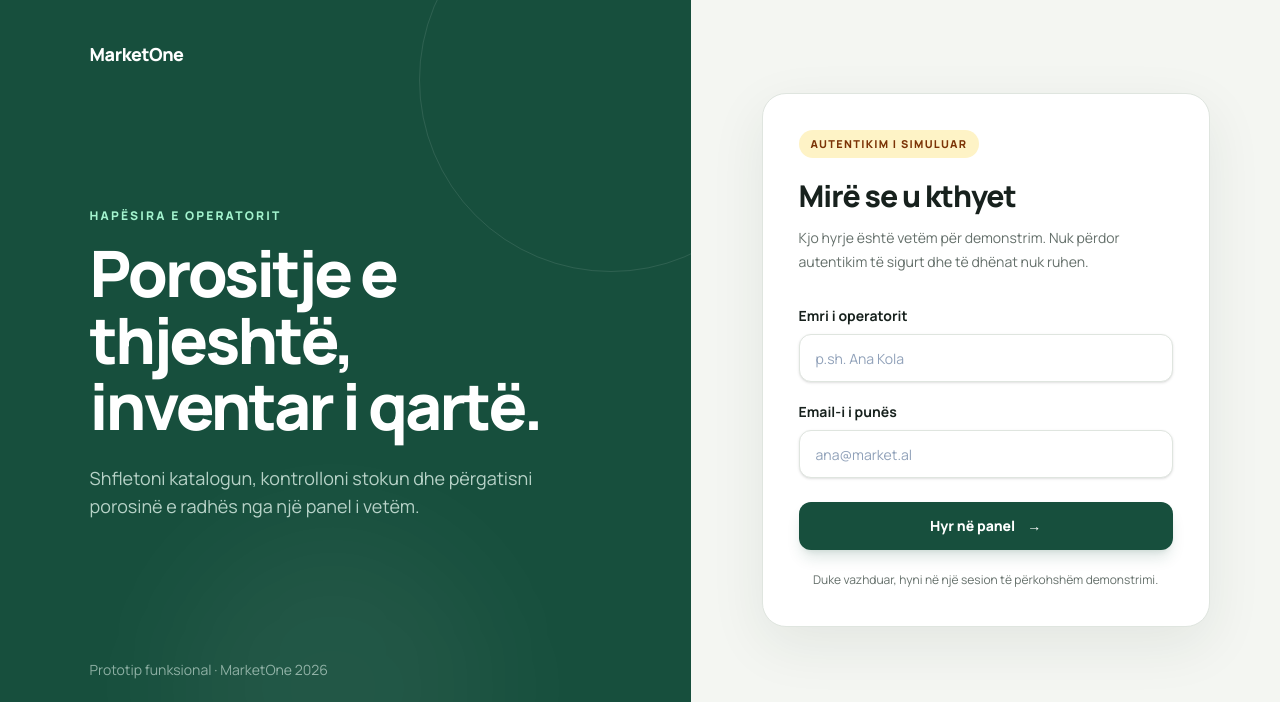
Test case: Operator flow › shows the distinct empty-catalog state
The image size is (1280, 702).
Step 1. Type "Ana Kola" into the field labelled "Emri i operatorit" → point(986, 358), box [799, 334, 1173, 382]
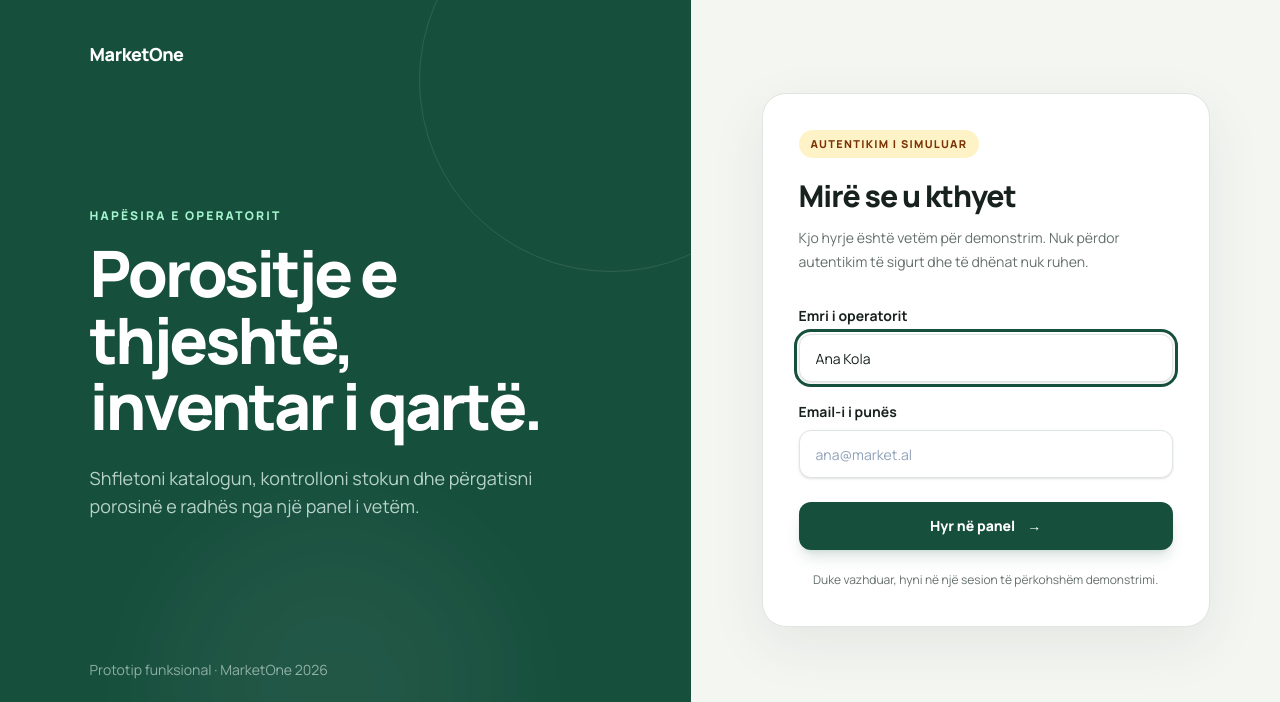
Step 2. Type "ana@example.com" into the field labelled "Email-i i punës" → point(986, 454), box [799, 430, 1173, 478]
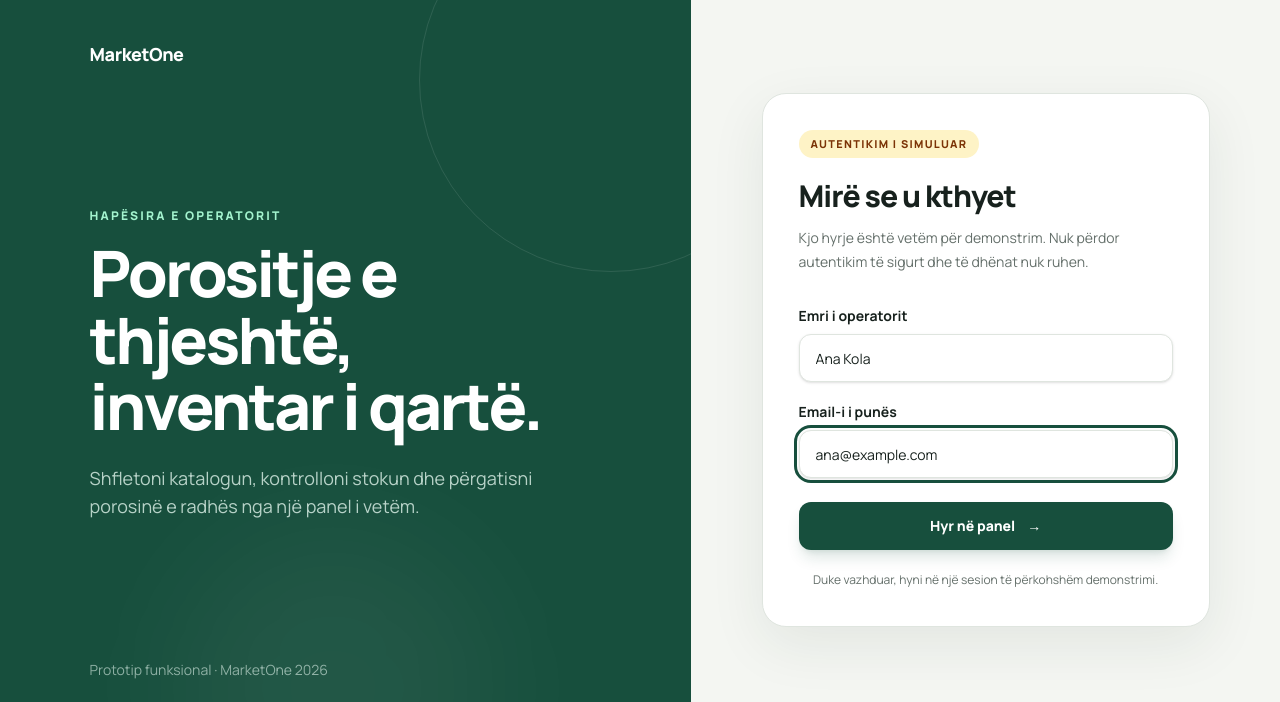
Step 3. Click the button "Hyr në panel →" → point(986, 526), box [799, 502, 1173, 550]
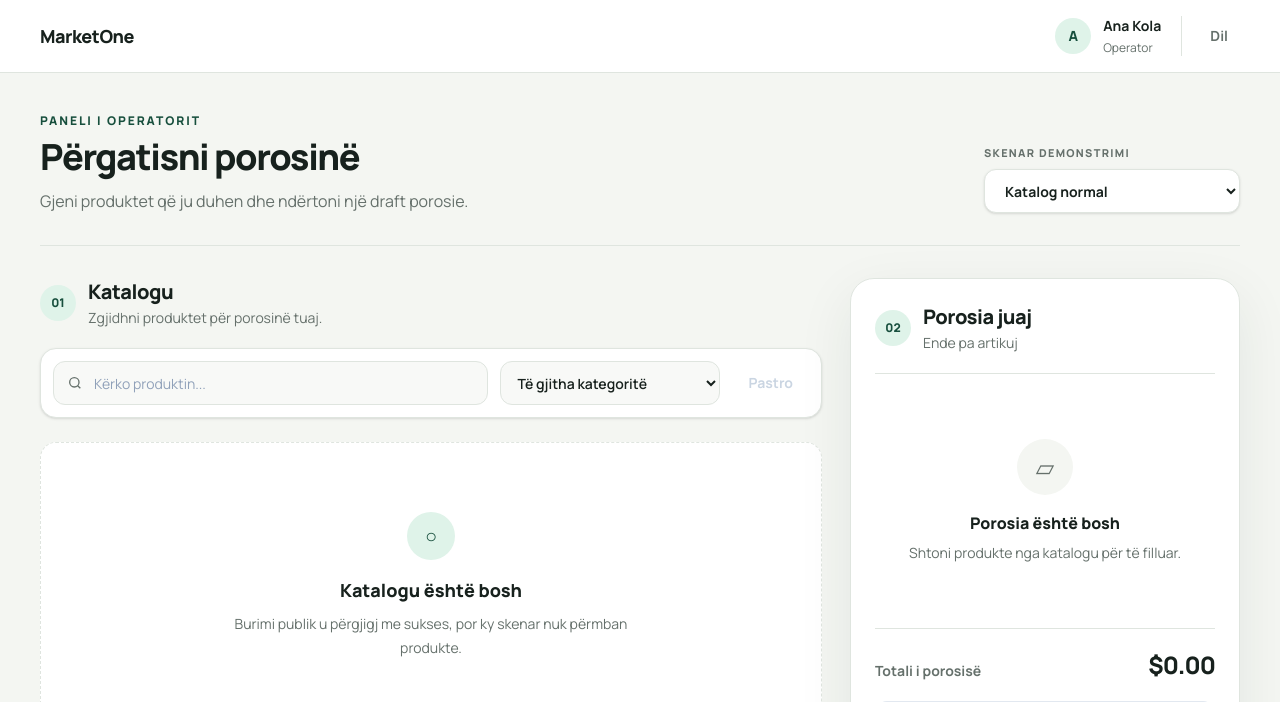
expect the heading "Katalogu është bosh" is shown: met, box [340, 578, 522, 602]
